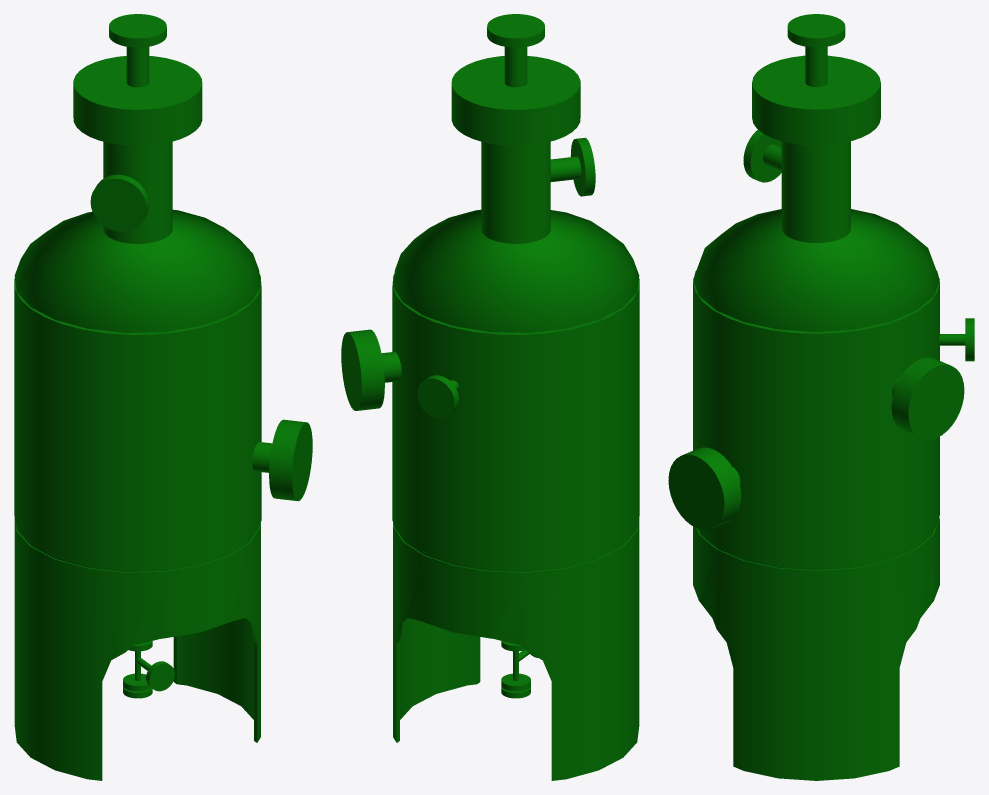
The model's file is Image-1710907701936-2280941466848_20-CE50.fbx.
3 views of the same model, side by side, from view 1: azimuth 30°, elevation 25°; view 2: azimuth 150°, elevation 25°; view 3: azimuth 270°, elevation 25° (orthographic).
Visible parts, largest first — view 1: CYLINDER 9 of SUBEQUIPMENT /20-CE50/PRIM, CYLINDER 1 of SUBEQUIPMENT /20-CE50/SKIRT, DISH 2 of SUBEQUIPMENT /20-CE50/PRIM, CYLINDER 12 of SUBEQUIPMENT /20-CE50/PRIM, CYLINDER 10 of SUBEQUIPMENT /20-CE50/PRIM, /20-CE50/N1, /20-CE50/N2, CYLINDER 11 of SUBEQUIPMENT /20-CE50/PRIM, CYLINDER 15 of SUBEQUIPMENT /20-CE50/PRIM, CYLINDER 14 of SUBEQUIPMENT /20-CE50/PRIM, /20-CE50/N3, DISH 1 of SUBEQUIPMENT /20-CE50/PRIM (+1 smaller); view 2: CYLINDER 9 of SUBEQUIPMENT /20-CE50/PRIM, CYLINDER 1 of SUBEQUIPMENT /20-CE50/SKIRT, DISH 2 of SUBEQUIPMENT /20-CE50/PRIM, CYLINDER 12 of SUBEQUIPMENT /20-CE50/PRIM, CYLINDER 10 of SUBEQUIPMENT /20-CE50/PRIM, /20-CE50/N2, CYLINDER 11 of SUBEQUIPMENT /20-CE50/PRIM, CYLINDER 18 of SUBEQUIPMENT /20-CE50/PRIM, /20-CE50/N1, /20-CE50/N6, CYLINDER 17 of SUBEQUIPMENT /20-CE50/PRIM, DISH 1 of SUBEQUIPMENT /20-CE50/PRIM (+1 smaller); view 3: CYLINDER 9 of SUBEQUIPMENT /20-CE50/PRIM, CYLINDER 1 of SUBEQUIPMENT /20-CE50/SKIRT, DISH 2 of SUBEQUIPMENT /20-CE50/PRIM, CYLINDER 12 of SUBEQUIPMENT /20-CE50/PRIM, CYLINDER 10 of SUBEQUIPMENT /20-CE50/PRIM, CYLINDER 15 of SUBEQUIPMENT /20-CE50/PRIM, CYLINDER 18 of SUBEQUIPMENT /20-CE50/PRIM, /20-CE50/N2, CYLINDER 11 of SUBEQUIPMENT /20-CE50/PRIM, /20-CE50/N1, CYLINDER 17 of SUBEQUIPMENT /20-CE50/PRIM, CYLINDER 14 of SUBEQUIPMENT /20-CE50/PRIM (+2 smaller).
Part boxes in pixels (x1,y1,x2,y2): CYLINDER 9 of SUBEQUIPMENT /20-CE50/PRIM: (14,274,261,569); CYLINDER 1 of SUBEQUIPMENT /20-CE50/SKIRT: (14,521,260,780); DISH 2 of SUBEQUIPMENT /20-CE50/PRIM: (14,209,260,332); CYLINDER 12 of SUBEQUIPMENT /20-CE50/PRIM: (73,56,202,127); CYLINDER 10 of SUBEQUIPMENT /20-CE50/PRIM: (103,141,172,243); /20-CE50/N1: (90,174,149,231); /20-CE50/N2: (109,14,166,87); CYLINDER 11 of SUBEQUIPMENT /20-CE50/PRIM: (73,100,202,145); CYLINDER 15 of SUBEQUIPMENT /20-CE50/PRIM: (280,421,312,501); CYLINDER 14 of SUBEQUIPMENT /20-CE50/PRIM: (269,419,293,499); /20-CE50/N3: (135,657,174,691); DISH 1 of SUBEQUIPMENT /20-CE50/PRIM: (16,522,260,571); CYLINDER 9 of SUBEQUIPMENT /20-CE50/PRIM: (392,274,639,569); CYLINDER 1 of SUBEQUIPMENT /20-CE50/SKIRT: (393,521,639,780); DISH 2 of SUBEQUIPMENT /20-CE50/PRIM: (393,209,639,332); CYLINDER 12 of SUBEQUIPMENT /20-CE50/PRIM: (451,56,580,127); CYLINDER 10 of SUBEQUIPMENT /20-CE50/PRIM: (481,141,550,243); /20-CE50/N2: (487,14,544,87); CYLINDER 11 of SUBEQUIPMENT /20-CE50/PRIM: (451,100,580,145); CYLINDER 18 of SUBEQUIPMENT /20-CE50/PRIM: (341,331,373,410); /20-CE50/N1: (550,138,595,196); /20-CE50/N6: (417,375,458,418); CYLINDER 17 of SUBEQUIPMENT /20-CE50/PRIM: (359,329,384,409); DISH 1 of SUBEQUIPMENT /20-CE50/PRIM: (393,522,637,571); CYLINDER 9 of SUBEQUIPMENT /20-CE50/PRIM: (693,270,939,567); CYLINDER 1 of SUBEQUIPMENT /20-CE50/SKIRT: (693,518,939,780); DISH 2 of SUBEQUIPMENT /20-CE50/PRIM: (693,209,939,331); CYLINDER 12 of SUBEQUIPMENT /20-CE50/PRIM: (752,55,880,127); CYLINDER 10 of SUBEQUIPMENT /20-CE50/PRIM: (781,141,850,242); CYLINDER 15 of SUBEQUIPMENT /20-CE50/PRIM: (668,451,732,529); CYLINDER 18 of SUBEQUIPMENT /20-CE50/PRIM: (900,361,964,439); /20-CE50/N2: (787,14,845,87); CYLINDER 11 of SUBEQUIPMENT /20-CE50/PRIM: (752,101,880,145); /20-CE50/N1: (743,130,781,182); CYLINDER 17 of SUBEQUIPMENT /20-CE50/PRIM: (891,357,942,434); CYLINDER 14 of SUBEQUIPMENT /20-CE50/PRIM: (690,447,741,524).
Size of the model in its own units: 1.37 by 1.54 by 3.91.
